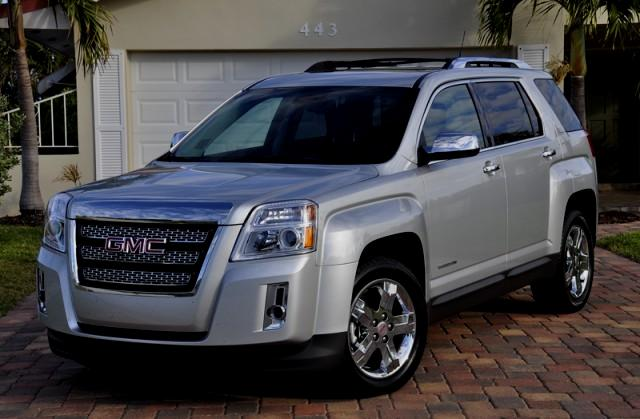GMC: (98, 229, 183, 260)
